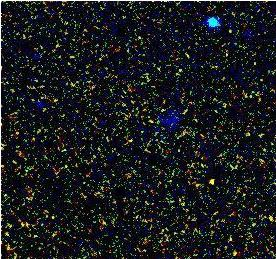star: (195, 168, 225, 198)
